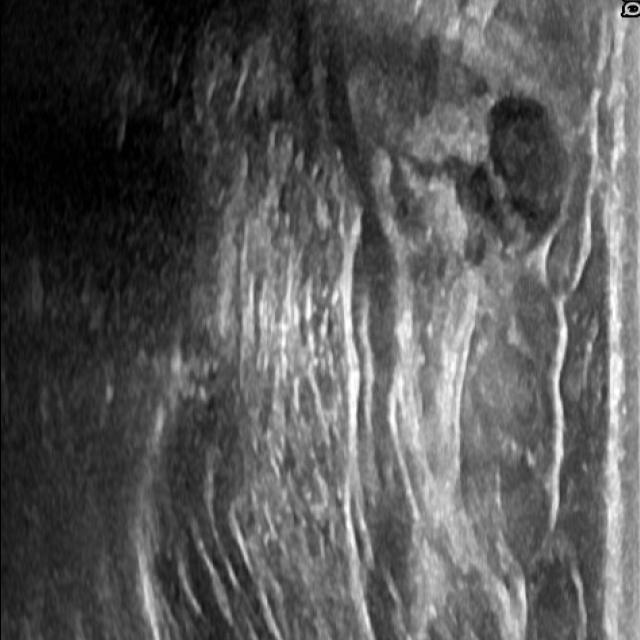Malignant: (480, 95, 588, 238)
